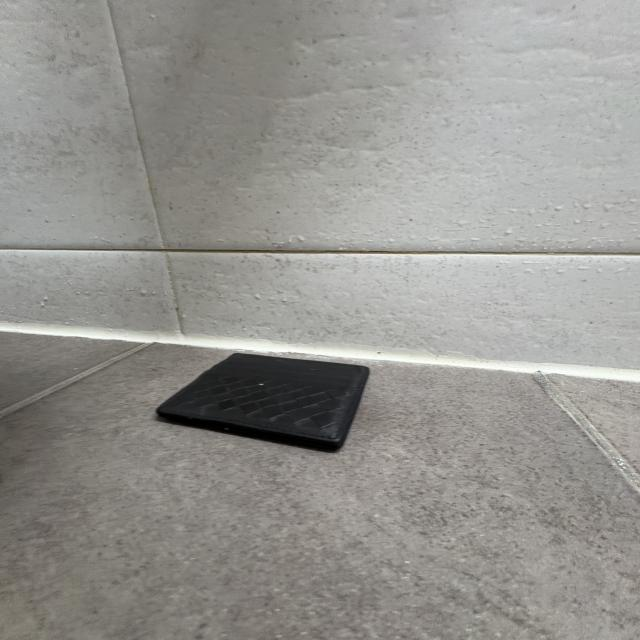wallet: (154, 352, 370, 452)
